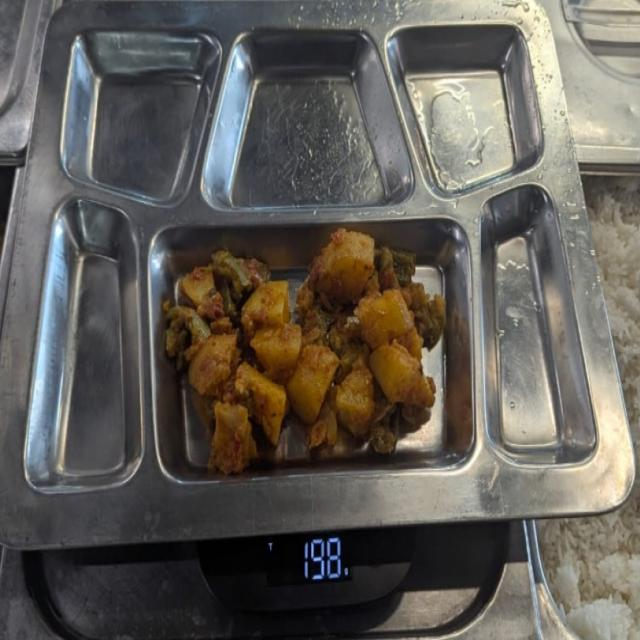Aloo Shimlamirch: (184, 260, 416, 469)
